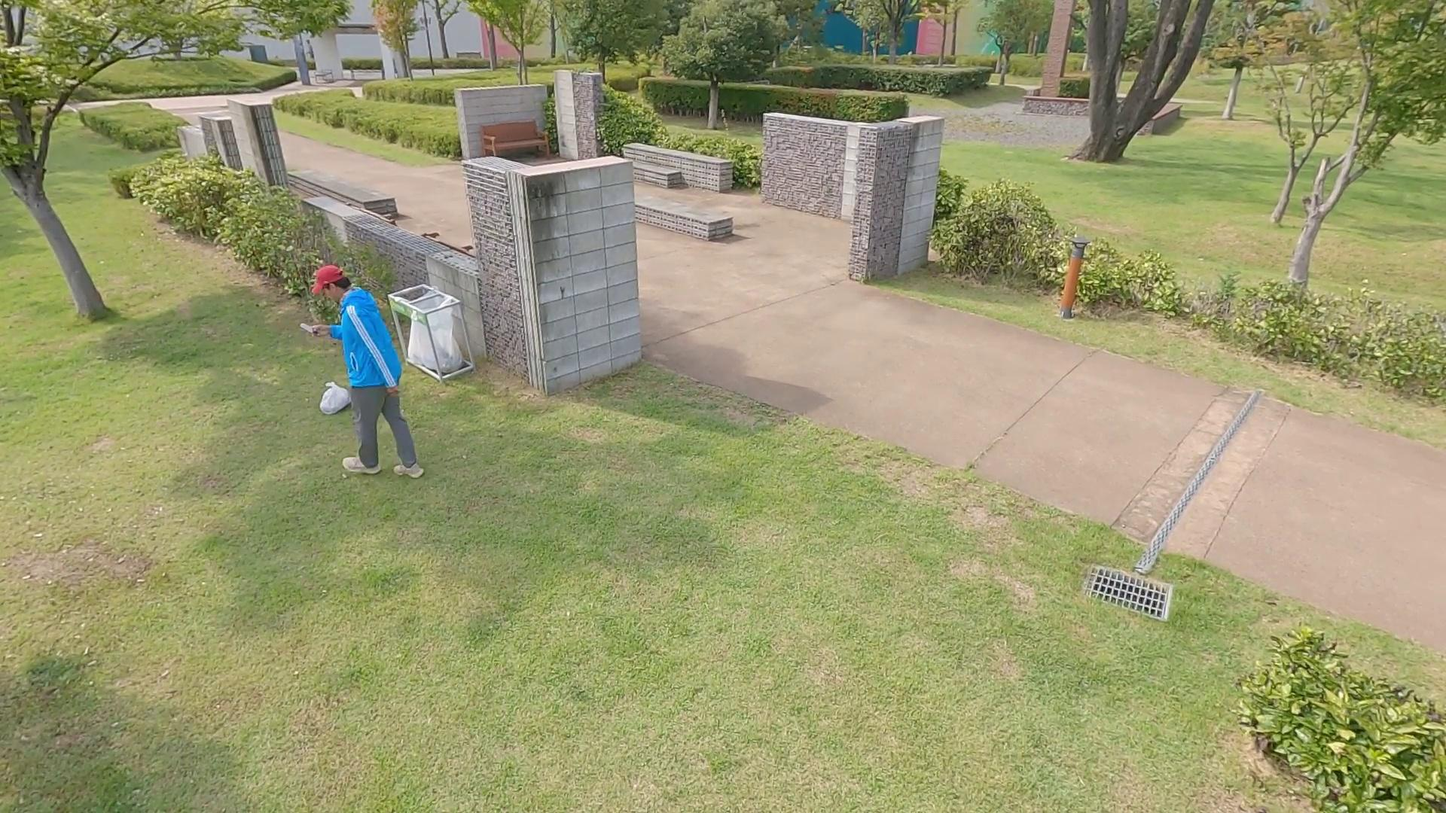trash: (302, 264, 425, 481), (319, 381, 354, 418)
